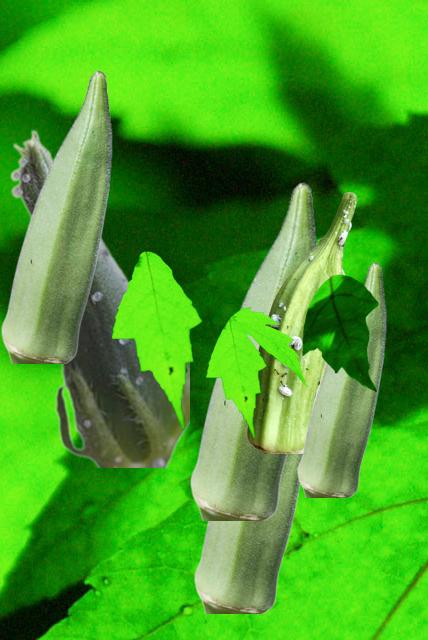okra: (9, 129, 188, 466), (190, 182, 317, 519), (1, 70, 111, 362), (247, 192, 356, 452), (297, 262, 385, 496), (194, 453, 301, 612)
